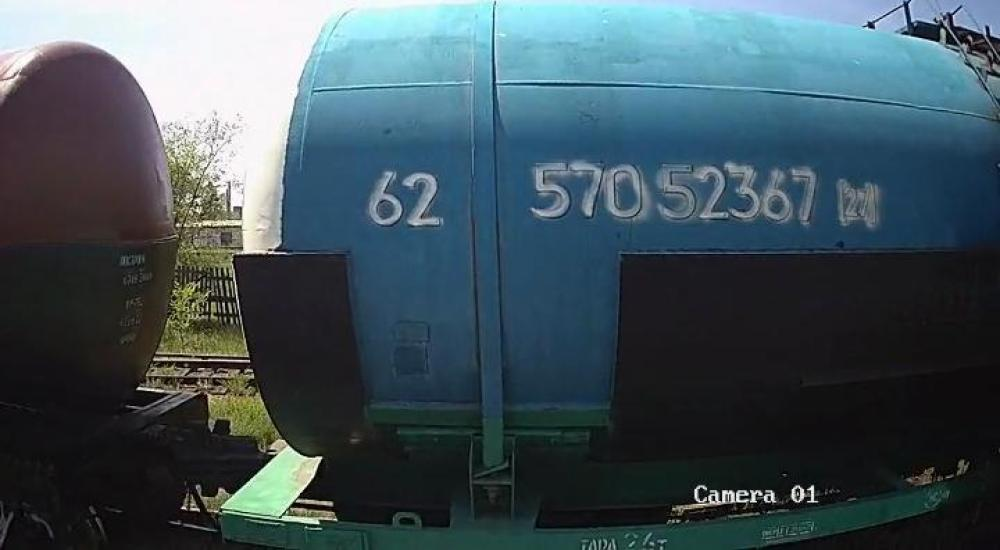Wagon-number: (524, 158, 820, 228)
